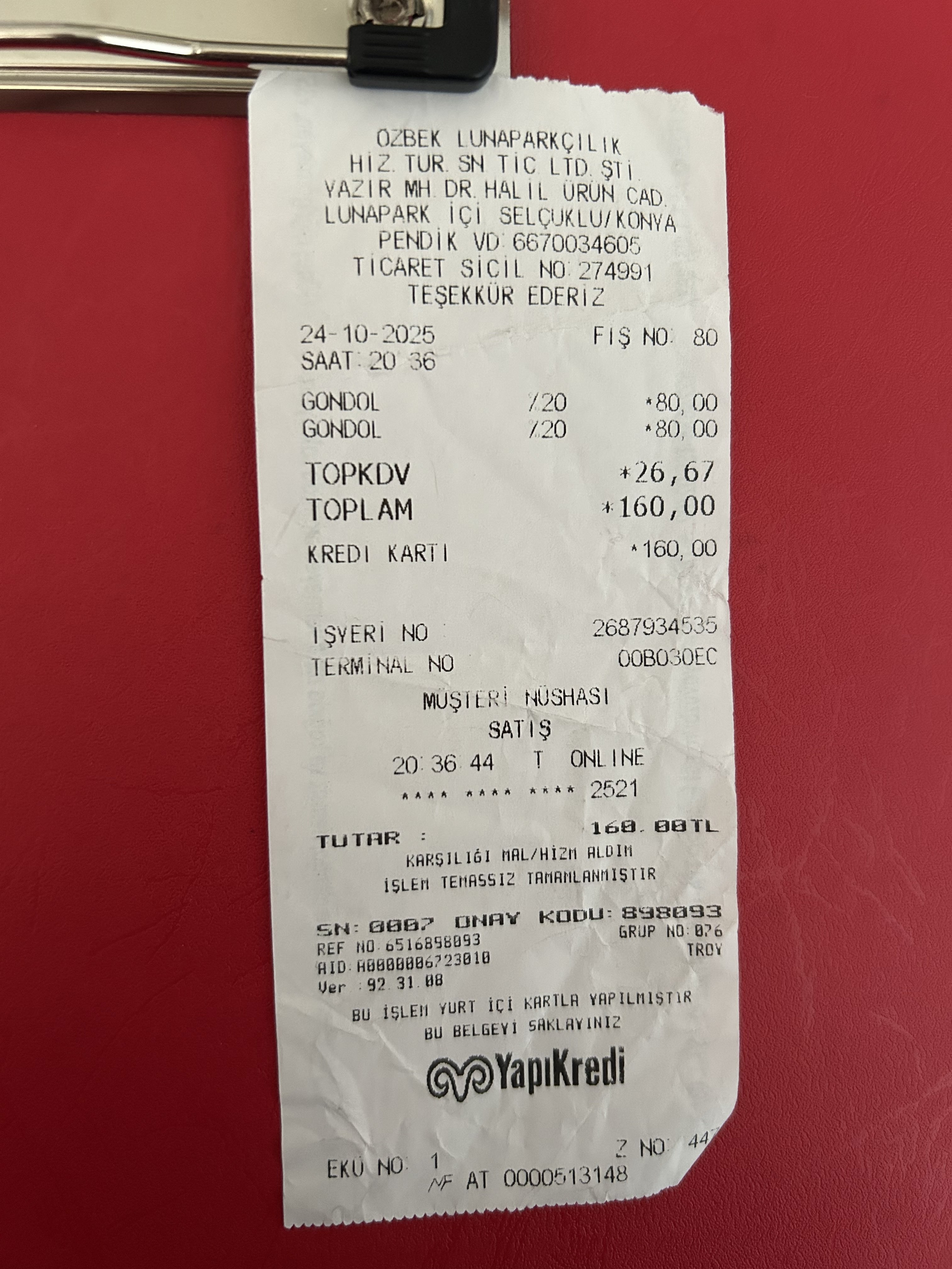date: (612, 488, 721, 529)
price: (293, 318, 442, 346)
workplace: (314, 118, 712, 234)
